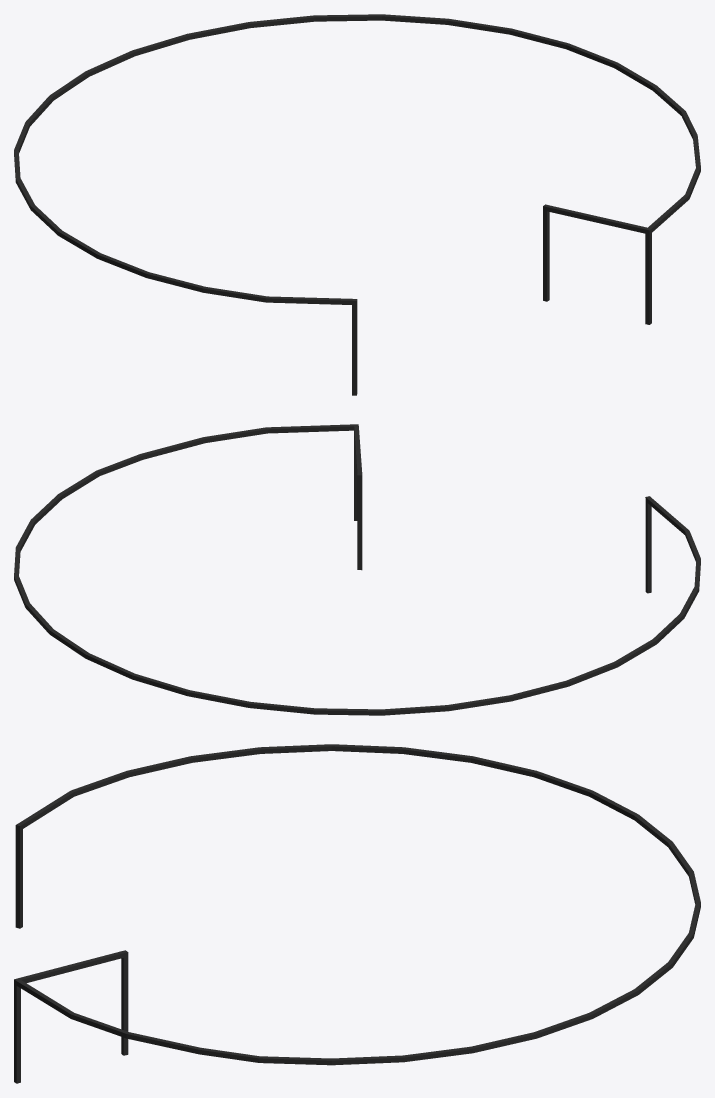
Rendered from G 14 - Black.glb.
The picture shows the model from 3 angles, top to bottom: view 1: azimuth 30°, elevation 25°; view 2: azimuth 150°, elevation 25°; view 3: azimuth 270°, elevation 25°; orthographic projection. The views are drawn at different scales.
Visible parts, largest first — view 1: G-14-Rails.Top; view 2: G-14-Rails.Top; view 3: G-14-Rails.Top.
Part boxes in pixels (bbox=[...]): G-14-Rails.Top: bbox=[14, 14, 700, 395]; G-14-Rails.Top: bbox=[14, 424, 700, 715]; G-14-Rails.Top: bbox=[14, 744, 700, 1083].
Size of what is drawn, in the model's own units: 7.27 by 1.1 by 6.67.
1 material, 1 textured.
